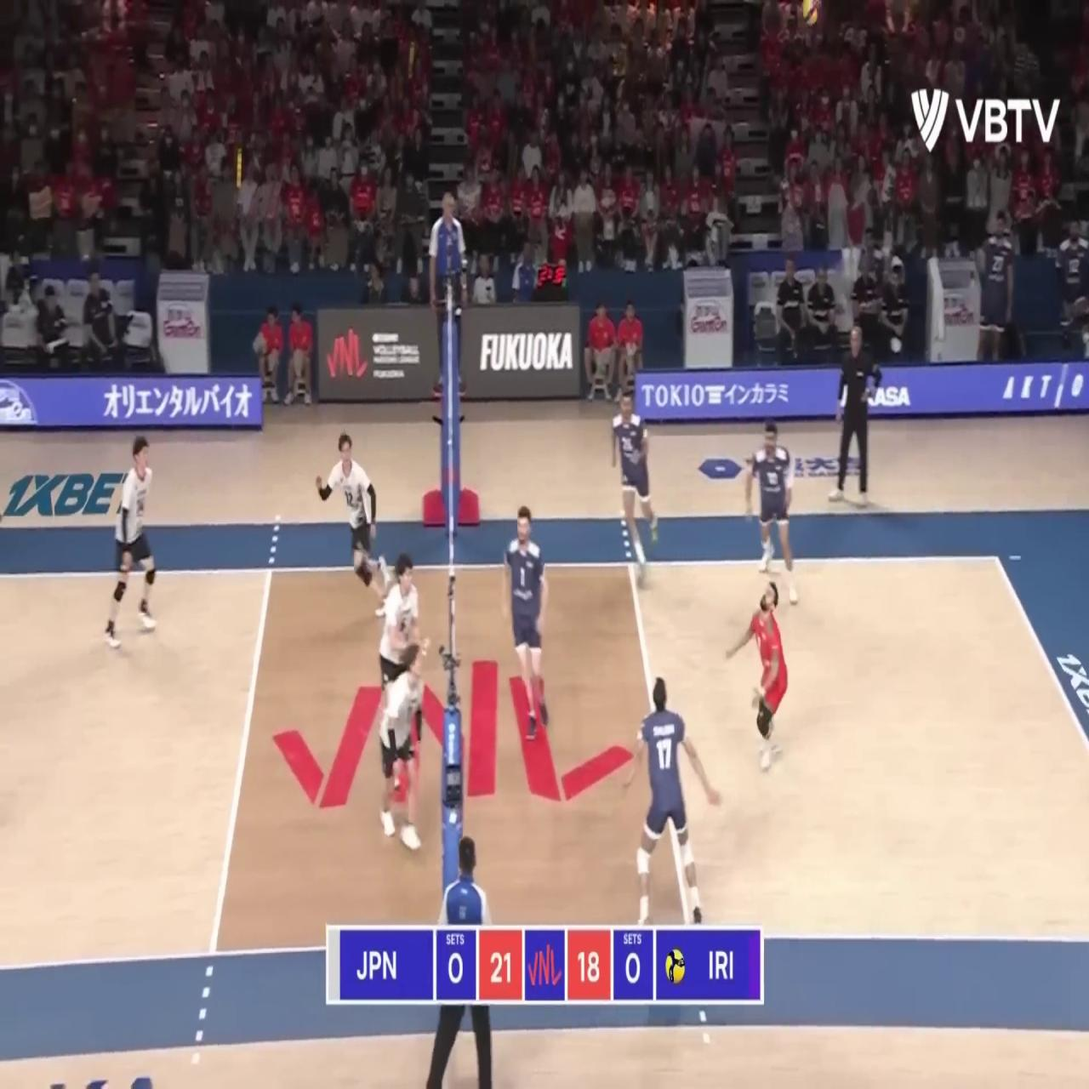ball: (803, 0, 818, 25)
